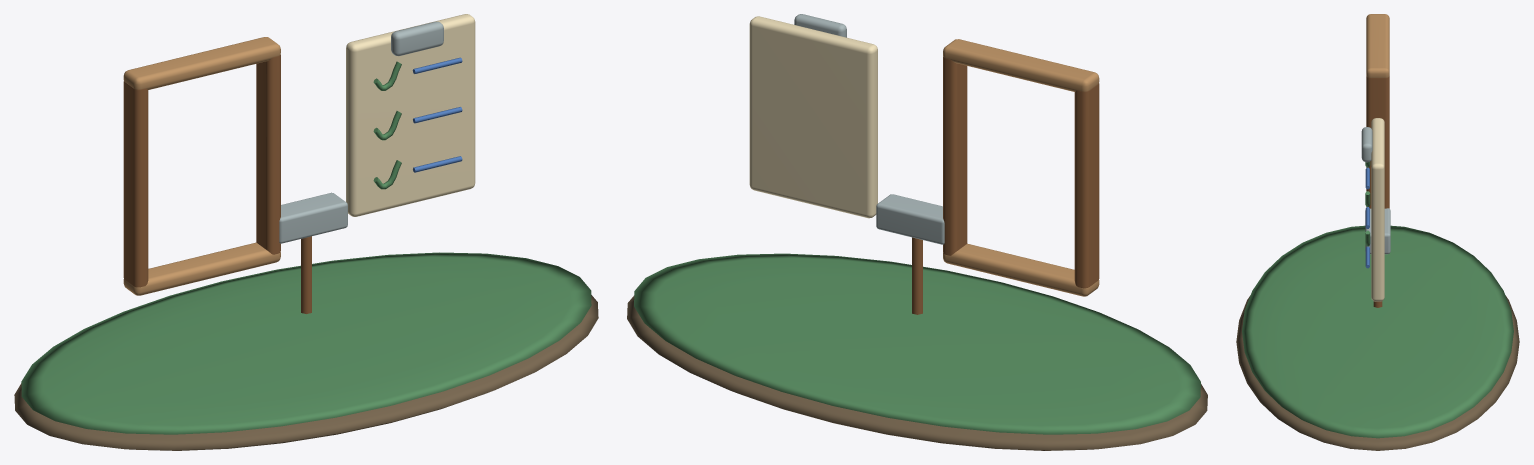
Rendered from complete-second-square-method.glb.
3 views of the same model, side by side, from view 1: azimuth 30°, elevation 25°; view 2: azimuth 150°, elevation 25°; view 3: azimuth 270°, elevation 25° (orthographic). The views are drawn at different scales.
Parts seen in each view (by area): view 1: complete-second-square-method_surface_01, complete-second-square-method_surface_04, complete-second-square-method_surface_02, complete-second-square-method_surface_00, complete-second-square-method_surface_03, complete-second-square-method_surface_05, complete-second-square-method_surface_06; view 2: complete-second-square-method_surface_01, complete-second-square-method_surface_04, complete-second-square-method_surface_02, complete-second-square-method_surface_00, complete-second-square-method_surface_03, complete-second-square-method_surface_05; view 3: complete-second-square-method_surface_01, complete-second-square-method_surface_00, complete-second-square-method_surface_04, complete-second-square-method_surface_02, complete-second-square-method_surface_03, complete-second-square-method_surface_05, complete-second-square-method_surface_06.
Part boxes in pixels (x1,y1,x2,y2): complete-second-square-method_surface_01: (21, 61, 591, 434); complete-second-square-method_surface_04: (346, 14, 475, 216); complete-second-square-method_surface_02: (123, 54, 311, 313); complete-second-square-method_surface_00: (14, 295, 598, 450); complete-second-square-method_surface_03: (123, 37, 280, 295); complete-second-square-method_surface_05: (279, 21, 443, 243); complete-second-square-method_surface_06: (412, 57, 462, 172); complete-second-square-method_surface_01: (634, 253, 1200, 434); complete-second-square-method_surface_04: (749, 16, 877, 218); complete-second-square-method_surface_02: (912, 56, 1099, 314); complete-second-square-method_surface_00: (627, 295, 1207, 450); complete-second-square-method_surface_03: (943, 39, 1099, 296); complete-second-square-method_surface_05: (794, 14, 944, 244); complete-second-square-method_surface_01: (1242, 162, 1513, 438); complete-second-square-method_surface_00: (1236, 295, 1519, 450); complete-second-square-method_surface_04: (1371, 118, 1384, 301); complete-second-square-method_surface_02: (1366, 76, 1389, 307); complete-second-square-method_surface_03: (1366, 14, 1389, 77); complete-second-square-method_surface_05: (1361, 127, 1390, 254); complete-second-square-method_surface_06: (1365, 167, 1369, 268).
Size of the model in its own units: 4.56 by 2.66 by 2.5.
